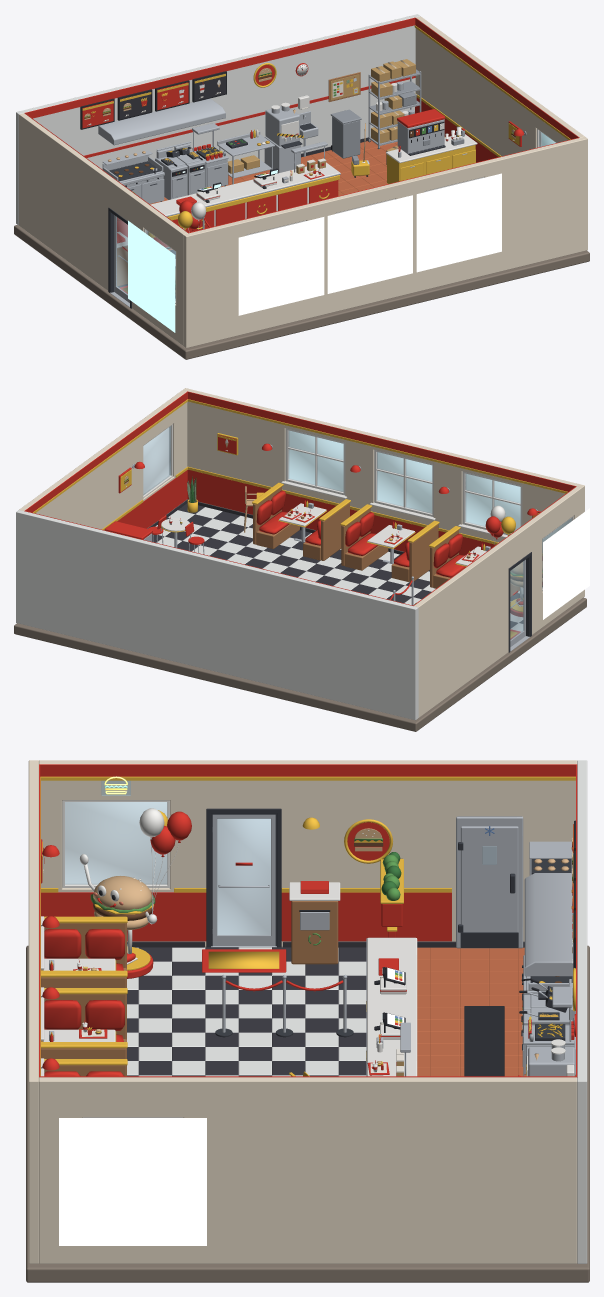
Rendered from mcdoodles.glb.
3 renders of one model, top to bottom at view 1: azimuth 30°, elevation 25°; view 2: azimuth 150°, elevation 25°; view 3: azimuth 270°, elevation 25°, orthographic. The views are drawn at different scales.
Visible parts, largest first — view 1: wall_s, decor_s_mesh, wall_n, wall_w, wall_e, decor_n_mesh, slab, counter_mesh, drinks_mesh, wall_n_trim, decor_w_mesh, dry_storage_mesh (+13 smaller); view 2: wall_n, wall_w, wall_s, decor_s_mesh, floor, wall_s_trim, wall_e, slab, booth_2_mesh, booth_3_mesh, decor_w_mesh, wall_e_trim (+8 smaller); view 3: wall_e, floor, wall_w, wall_w_trim, decor_w_mesh, decor_e_mesh, slab, exit_door_mesh, counter_mesh, booth_1_mesh, booth_2_mesh, decor_n_mesh (+15 smaller).
Part boxes in pixels (x1,y1,x2,y2): wall_s: (183,136,587,347); decor_s_mesh: (238,173,501,315); wall_n: (16,14,420,225); wall_w: (19,113,187,345); wall_e: (415,16,584,156); decor_n_mesh: (80,63,360,145); slab: (14,225,589,359); counter_mesh: (150,141,340,248); drinks_mesh: (386,109,477,183); wall_n_trim: (25,17,415,157); decor_w_mesh: (128,220,175,332); dry_storage_mesh: (368,59,421,148); wall_n: (16,510,418,720); wall_w: (414,486,581,717); wall_s: (183,388,584,598); decor_s_mesh: (217,428,540,537); floor: (152,503,522,631); wall_s_trim: (187,391,575,586); wall_e: (19,390,187,529); slab: (14,597,586,731); booth_2_mesh: (340,504,439,582); booth_3_mesh: (252,482,350,560); decor_w_mesh: (542,508,589,619); wall_e_trim: (25,391,187,530); wall_e: (39,1077,577,1263); floor: (127,947,525,1076); wall_w: (39,760,577,946); wall_w_trim: (39,764,575,947); decor_w_mesh: (62,776,523,948); decor_e_mesh: (59,1117,206,1245); slab: (26,945,589,1282); exit_door_mesh: (206,808,281,947); counter_mesh: (366,937,417,1076); booth_1_mesh: (41,916,127,987); booth_2_mesh: (41,988,127,1058); decor_n_mesh: (524,820,575,1076).
Size of the model in its own units: 11.74 by 3.3 by 8.56.
